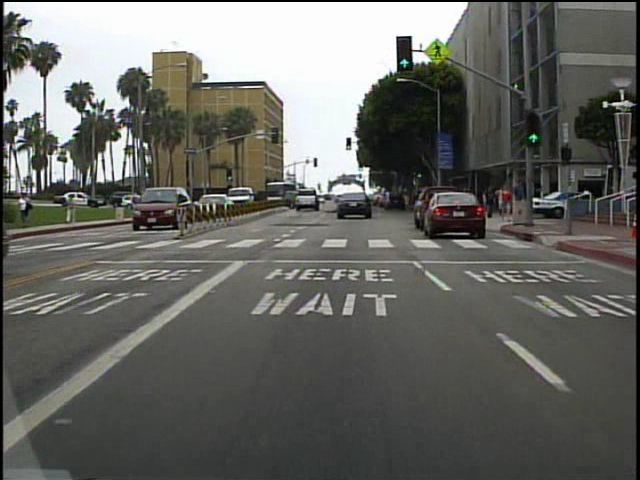person: (20, 193, 41, 233), (513, 180, 529, 219), (67, 192, 84, 227), (498, 185, 514, 222)
